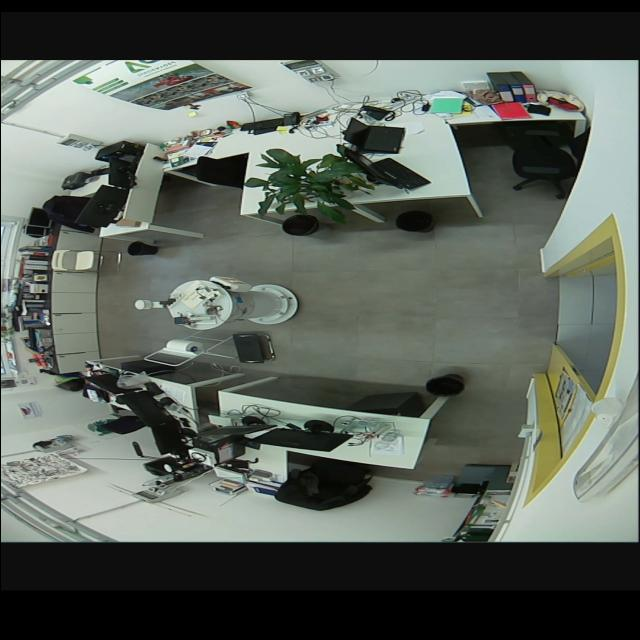Open: (540, 255, 624, 391)
